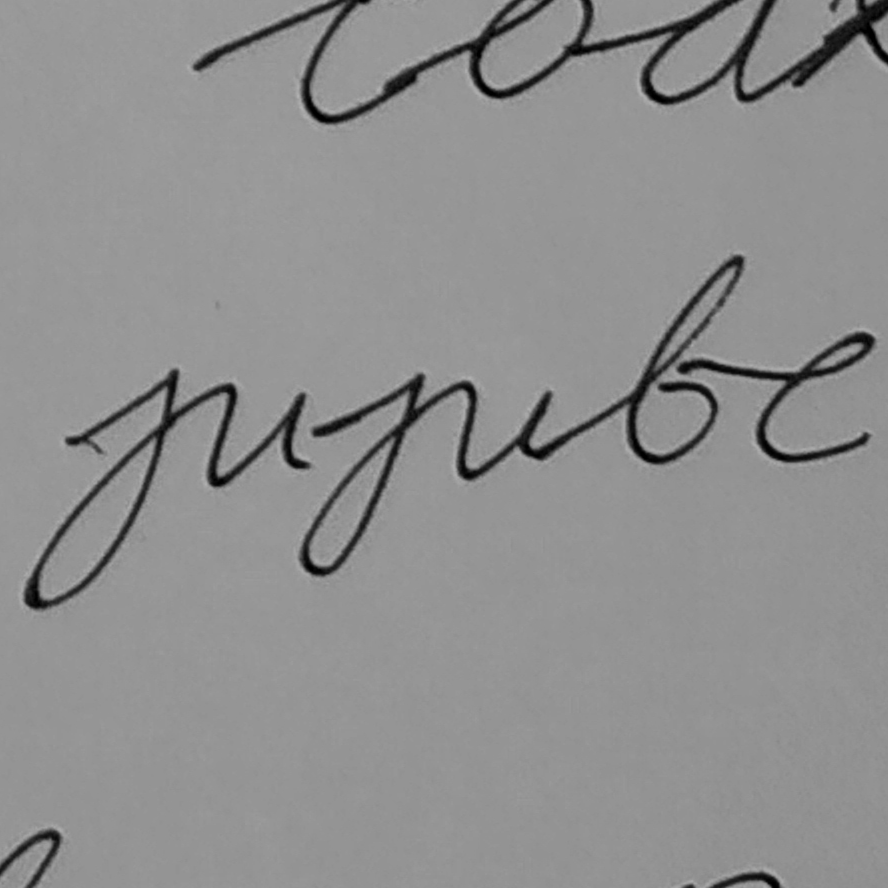b: (622, 249, 746, 467)
e: (752, 326, 880, 466)
j: (19, 363, 184, 616), (293, 369, 429, 580)
u: (199, 377, 311, 494), (450, 377, 558, 485)
